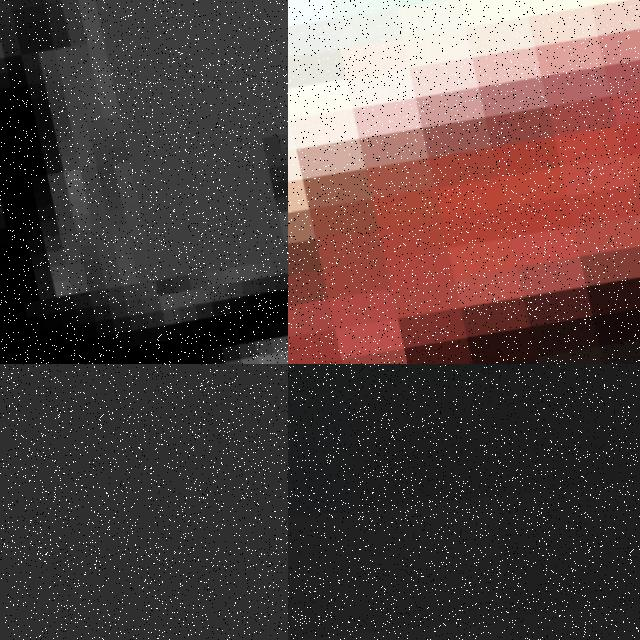drone: (288, 0, 640, 364), (0, 0, 288, 364)
